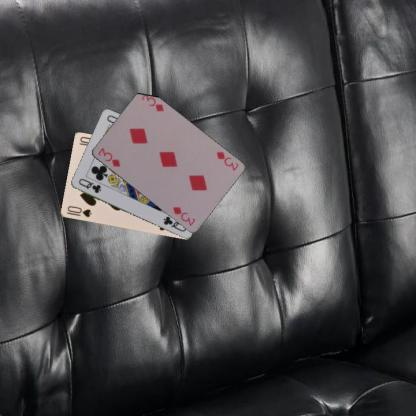10s: (64, 204, 93, 218)
3d: (95, 145, 122, 168), (213, 149, 240, 172)
Qc: (76, 176, 102, 194)
